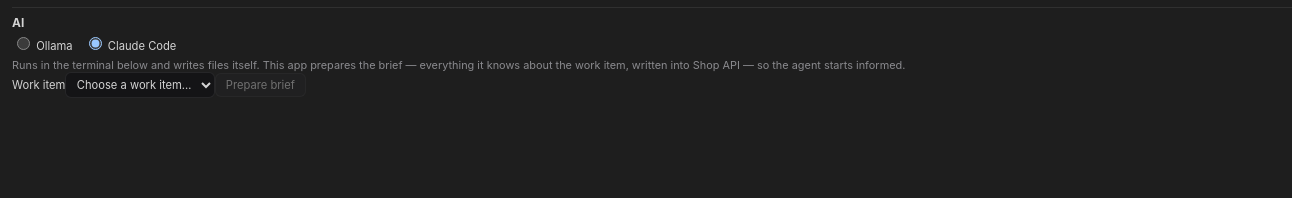
Test: AiPanel › shows no cost for a Claude Code run and says why
Select "Add checkout" in the dropdown named "Work item to hand over": (140, 85) 65,72 -> 215,98
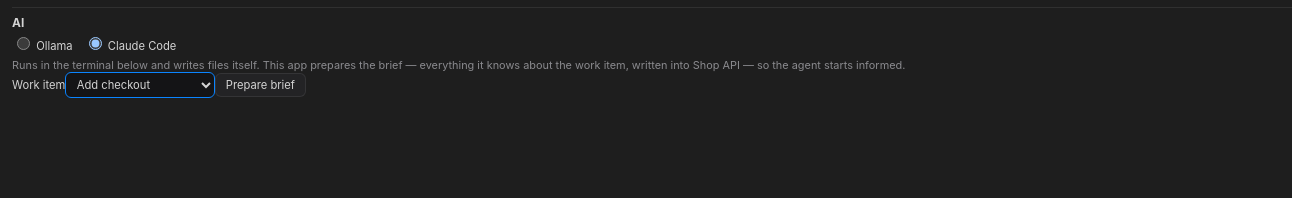
Click the button "Prepare brief": (260, 85) 215,73 -> 306,98
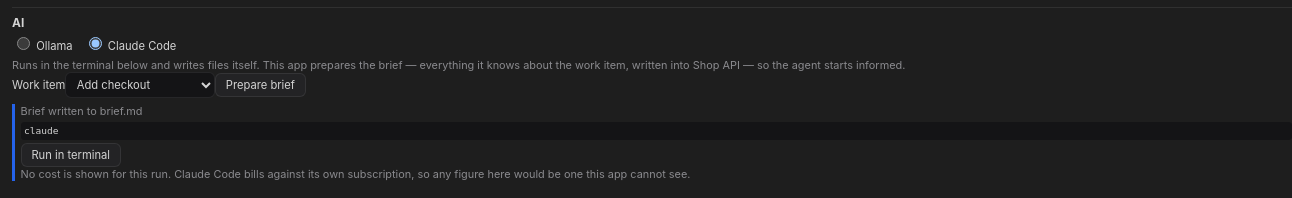
Check: the text "cannot see" is shown, box 21,167 -> 690,181
